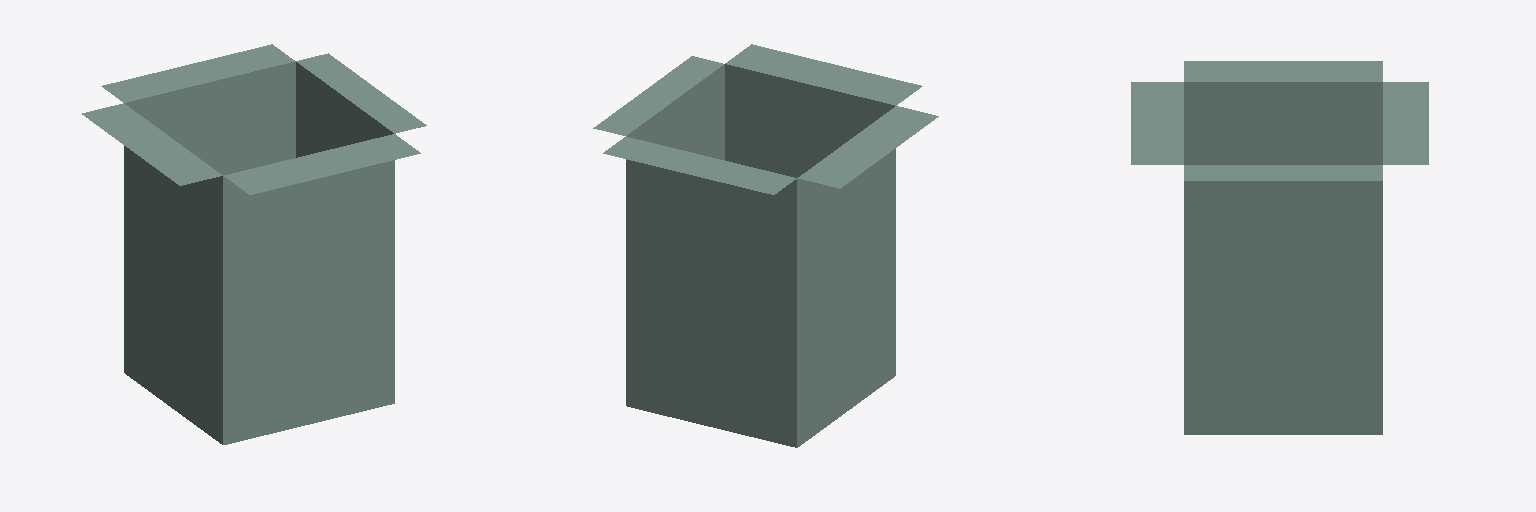
The model's file is HoleBallMod.obj.
3 views of the same model, side by side, from view 1: azimuth 30°, elevation 25°; view 2: azimuth 150°, elevation 25°; view 3: azimuth 270°, elevation 25° (orthographic).
Visible parts, largest first — view 1: Plane; view 2: Plane; view 3: Plane.
Part boxes in pixels (bbox=[...]): Plane: bbox=[82, 44, 426, 444]; Plane: bbox=[593, 44, 938, 447]; Plane: bbox=[1131, 61, 1428, 434].
Size of the model in its own units: 2.88 by 3.01 by 3.01.